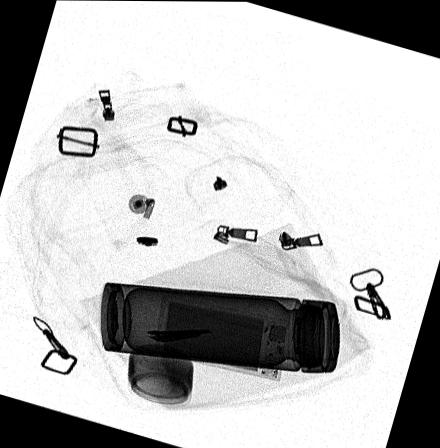Powerbank: (154, 295, 291, 381)
